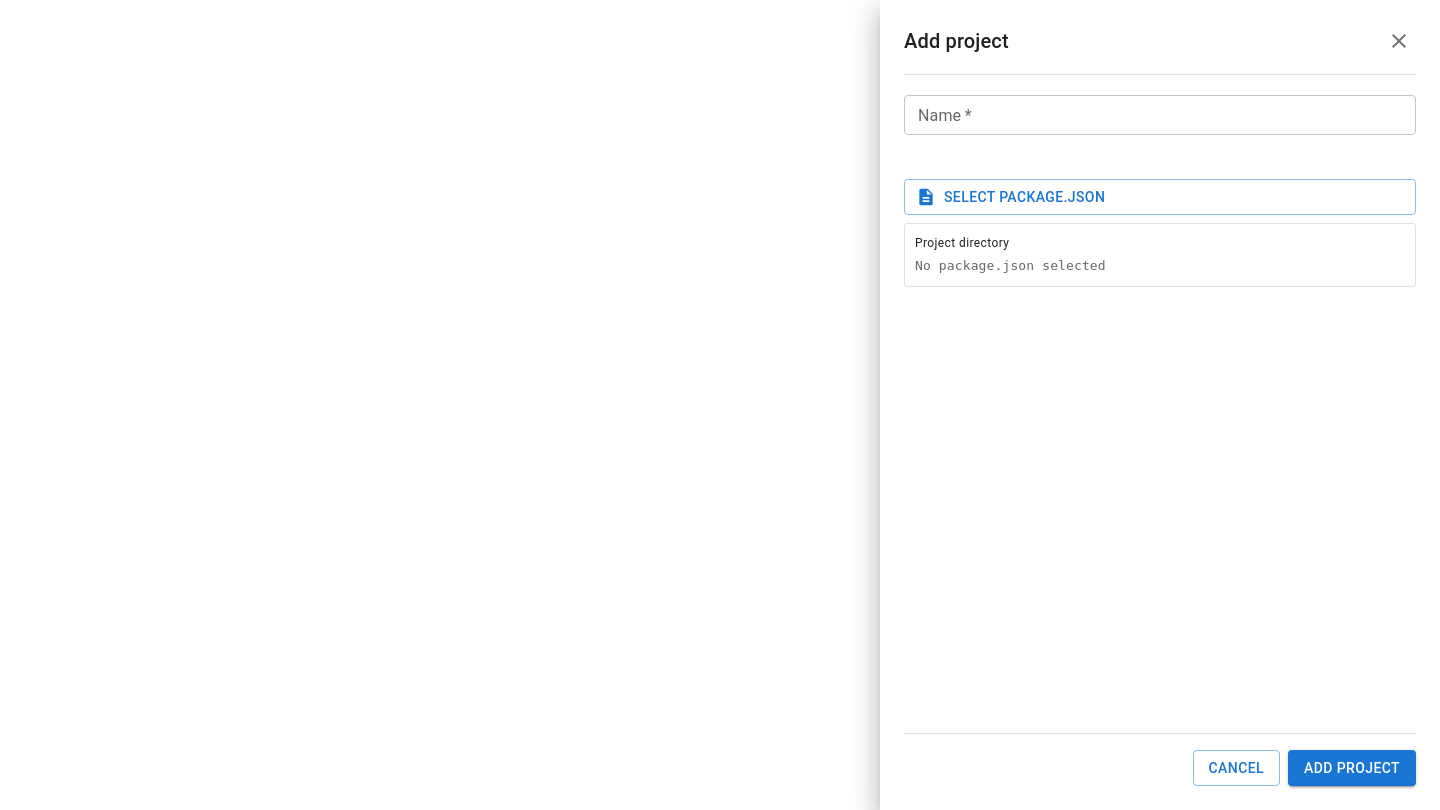
ProjectFormDrawer › fills directory path and loads scripts when package.json is selected
Click the button "Select package.json": coordinates (1025, 197) [904,179,1416,215]
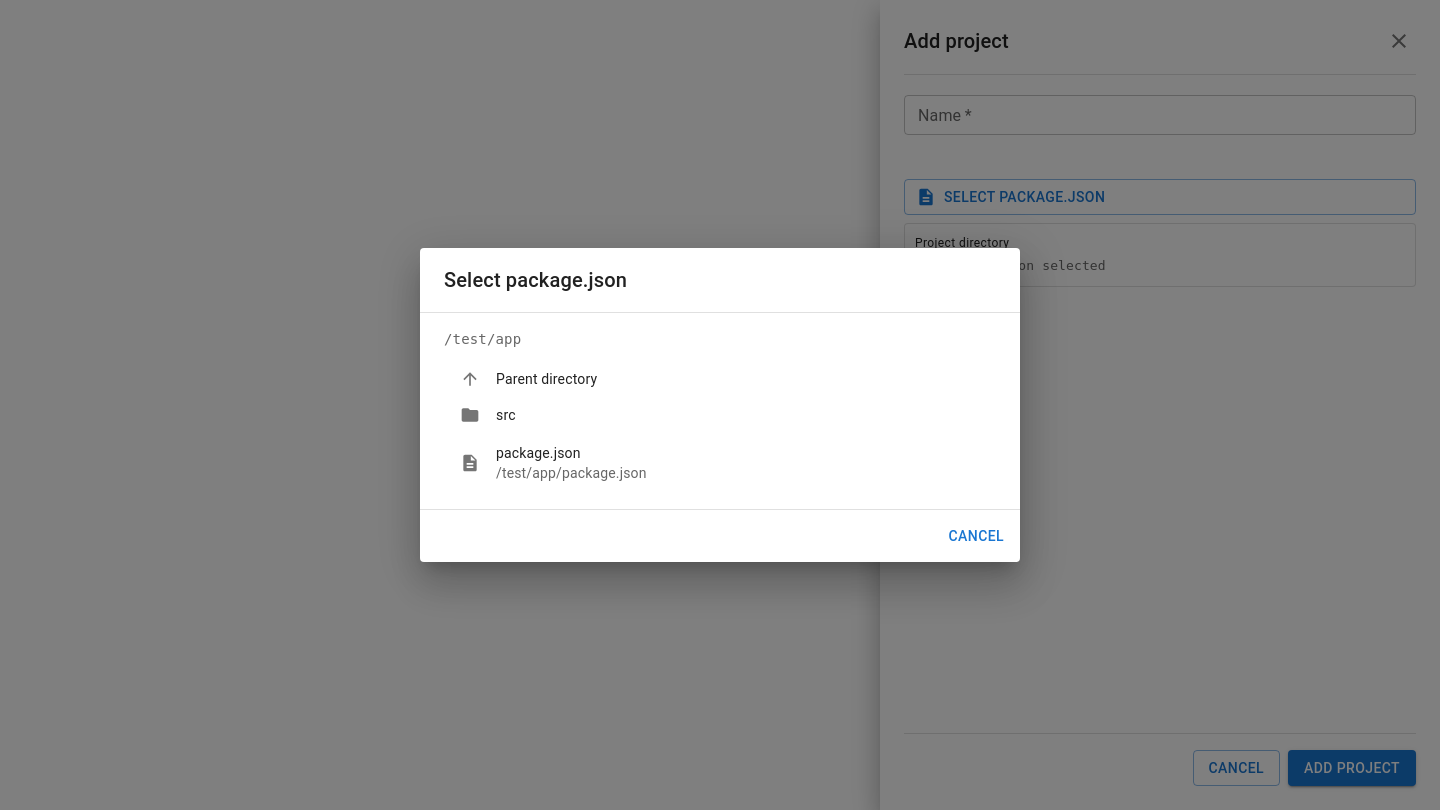
Now the dialog "Select package.json" is shown, box [420,248,1020,562]
Click the button "package.json /test/app/package.json": coordinates (553, 463) [460,445,647,481]
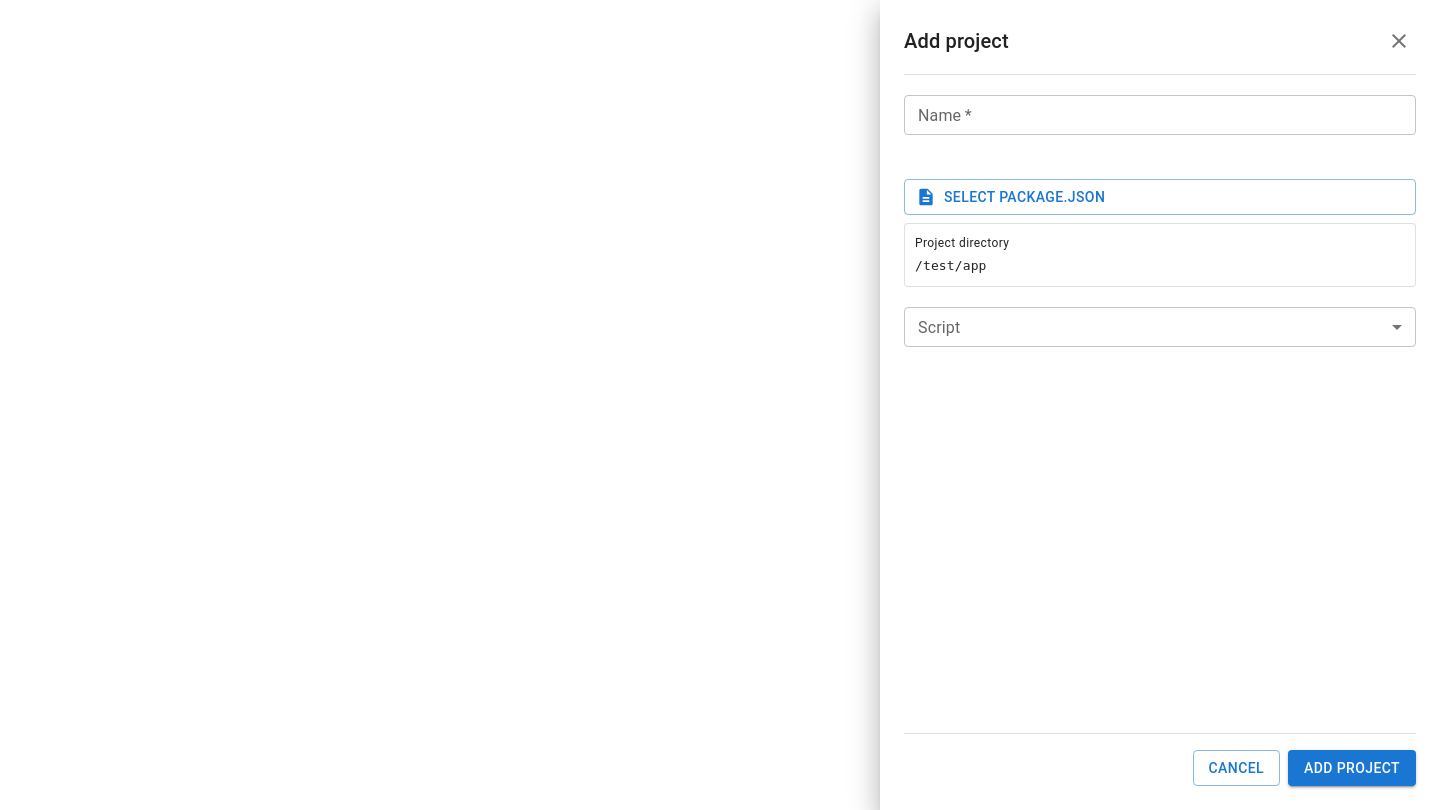
Now the text with test id "selected-directory-path" reads "/test/app", box [915,258,986,273]
